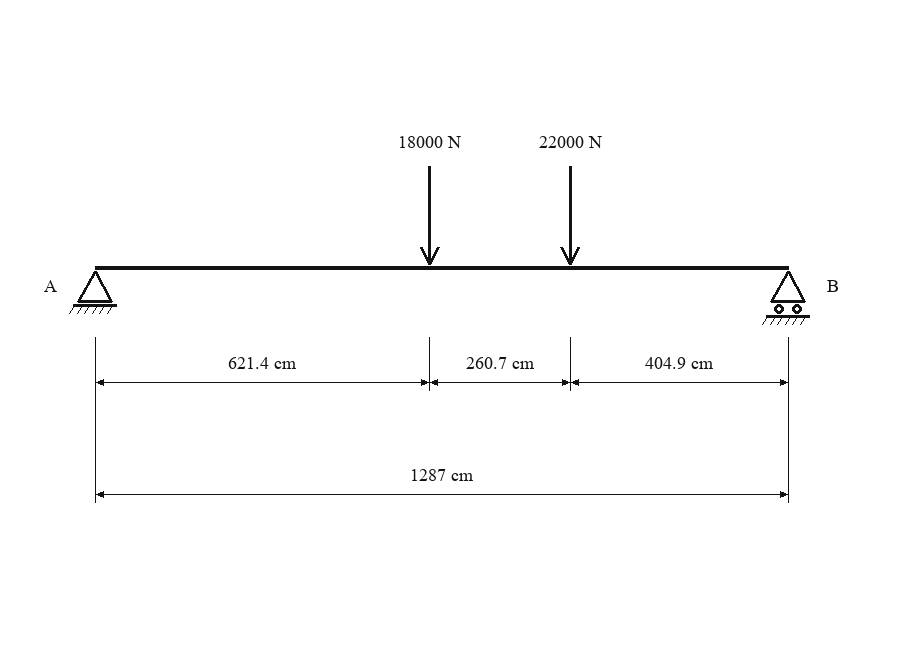pin_support: (69, 271, 117, 314)
point_load: (420, 166, 440, 265), (560, 166, 580, 265)
roller_support: (762, 271, 810, 325)
